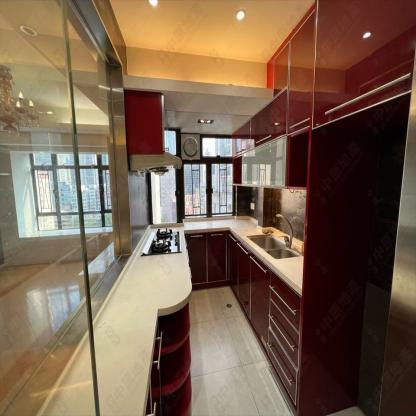Cupboard: (231, 0, 368, 191), (185, 228, 300, 409)
Exhaust Fan: (184, 136, 197, 154)
Exhaust Hood: (129, 151, 181, 176)
Faucet: (273, 211, 293, 243)
Sink: (249, 232, 300, 260), (249, 235, 300, 259)
Stove: (141, 227, 180, 256)
